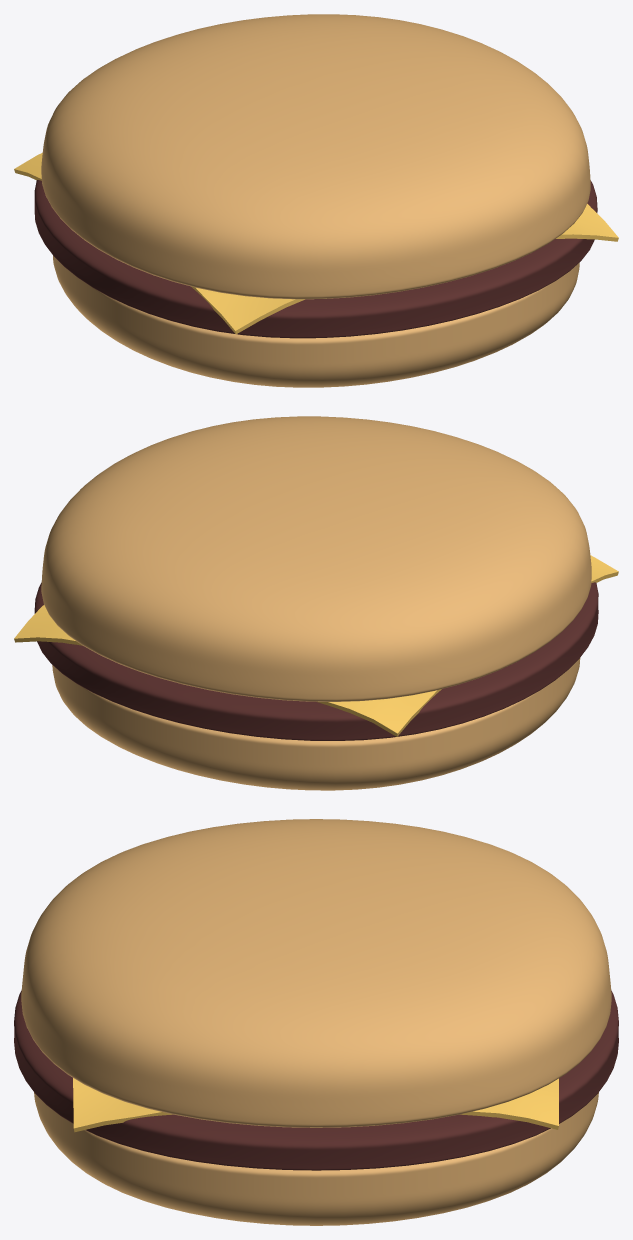
File: hamburger.glb
3 views of the same model, one above another, from view 1: azimuth 30°, elevation 25°; view 2: azimuth 150°, elevation 25°; view 3: azimuth 270°, elevation 25° (orthographic). The views are drawn at different scales.
Parts seen in each view (by area): view 1: Cube.002, Cube, Cube.001, Plane; view 2: Cube.002, Cube, Cube.001, Plane; view 3: Cube.002, Cube, Cube.001, Plane.
Part boxes in pixels (left/top/right/bottom): Cube.002: left=41, top=14, right=590, bottom=299; Cube: left=53, top=255, right=579, bottom=387; Cube.001: left=34, top=180, right=597, bottom=338; Plane: left=14, top=153, right=618, bottom=334; Cube.002: left=41, top=416, right=591, bottom=701; Cube: left=52, top=658, right=580, bottom=790; Cube.001: left=34, top=582, right=598, bottom=740; Plane: left=14, top=555, right=618, bottom=736; Cube.002: left=21, top=819, right=611, bottom=1127; Cube: left=34, top=1092, right=598, bottom=1225; Cube.001: left=14, top=990, right=618, bottom=1170; Plane: left=73, top=1078, right=558, bottom=1132.
Bounding box in the file's own units: 9.79 × 4.4 × 9.79.
